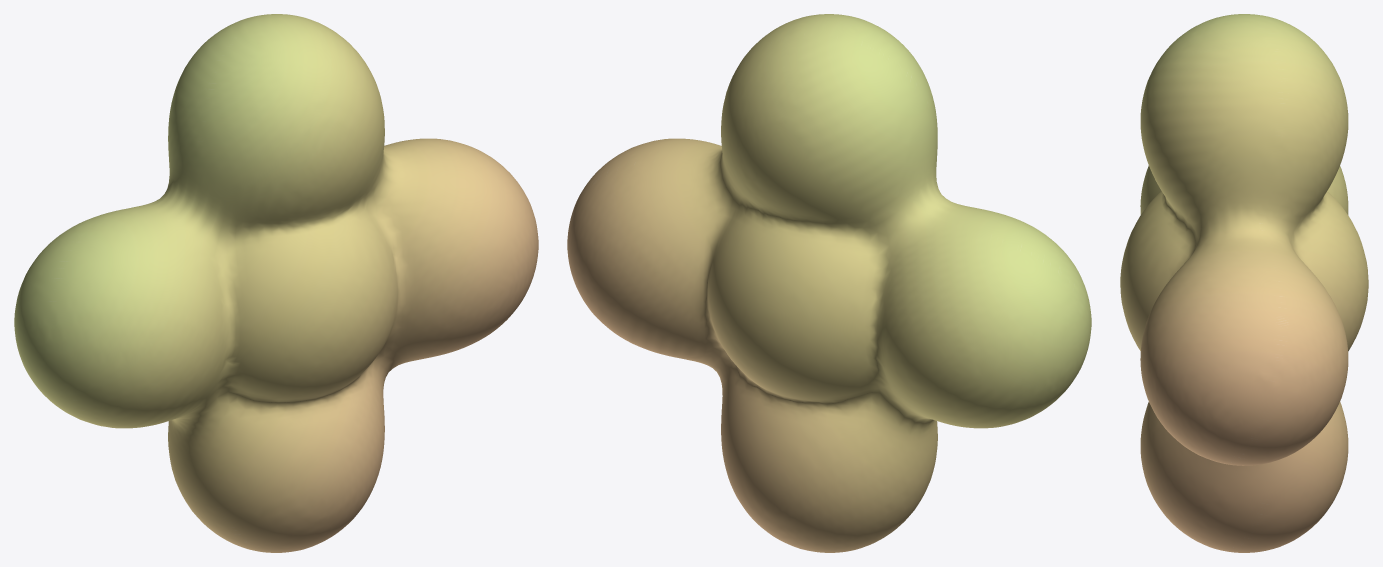
The model's file is 06_cello_animated.glb.
3 views of the same model, side by side, from view 1: azimuth 30°, elevation 25°; view 2: azimuth 150°, elevation 25°; view 3: azimuth 270°, elevation 25° (orthographic).
Parts seen in each view (by area): view 1: pinch; view 2: pinch; view 3: pinch.
Part boxes in pixels (bbox=[...]): pinch: bbox=[14, 14, 538, 552]; pinch: bbox=[567, 14, 1091, 552]; pinch: bbox=[1120, 14, 1368, 552].
Bounding box in the file's own units: 0.1305 × 0.1305 × 0.0565.
1 material, 1 textured.
